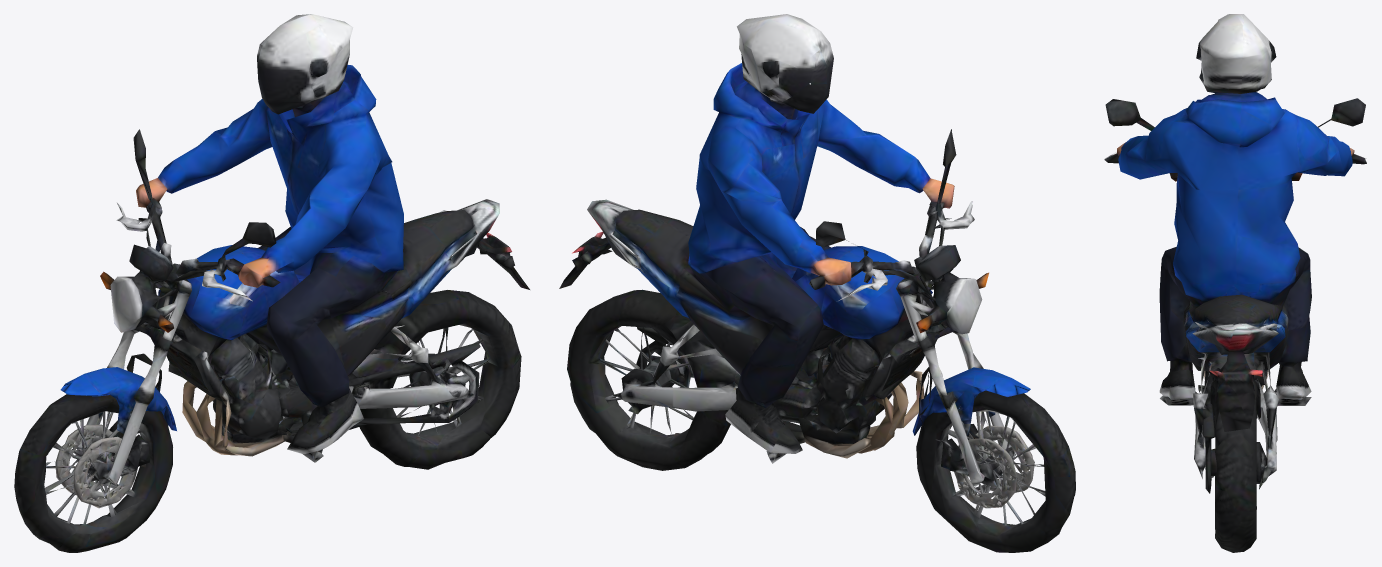
File: moto.glb
3 renders of one model, left to right at view 1: azimuth 30°, elevation 25°; view 2: azimuth 150°, elevation 25°; view 3: azimuth 270°, elevation 25°, orthographic. The views are drawn at different scales.
Parts seen in each view (by area): view 1: tripo_node_f3473284-2a8e-4879-9070-034523db397c; view 2: tripo_node_f3473284-2a8e-4879-9070-034523db397c; view 3: tripo_node_f3473284-2a8e-4879-9070-034523db397c.
Part boxes in pixels (<box>): tripo_node_f3473284-2a8e-4879-9070-034523db397c: <box>14,14,529,552</box>; tripo_node_f3473284-2a8e-4879-9070-034523db397c: <box>559,14,1075,552</box>; tripo_node_f3473284-2a8e-4879-9070-034523db397c: <box>1104,14,1366,552</box>.
Size of the model in its own units: 0.9752 by 0.8832 by 0.4554.
Materials: 1 (1 with a texture image).
